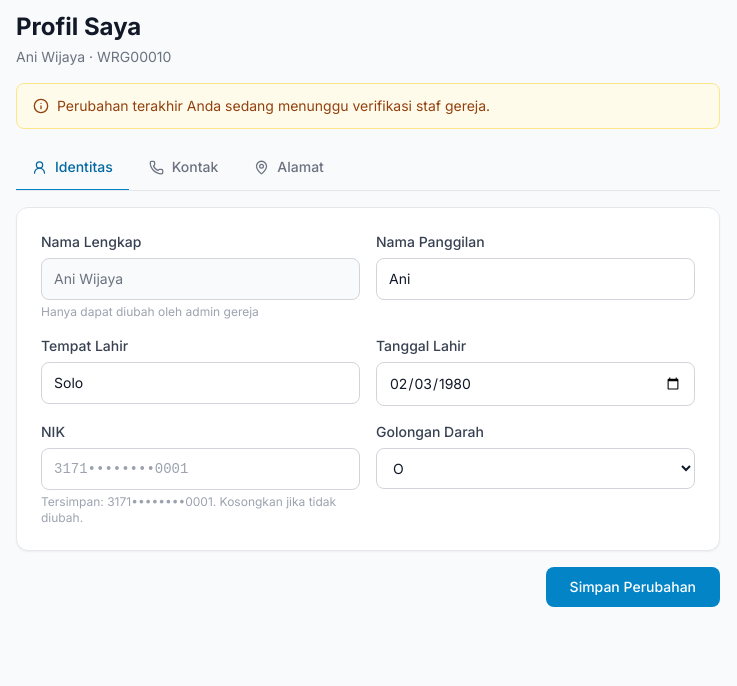
Profil Saya › menampilkan pemberitahuan menunggu verifikasi dan pesan galat server
Expected: the text "menunggu verifikasi staf" is shown, [57,97,490,114]
Click the button "Simpan Perubahan" at (633, 587), box [546,567,720,607]
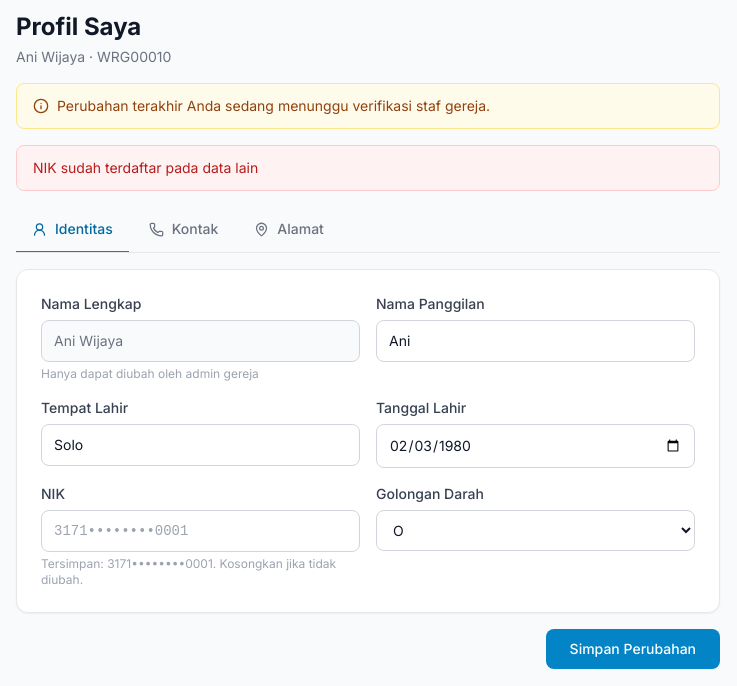
Expected: the text "NIK sudah terdaftar pada data lain" is shown, [16,145,720,191]
